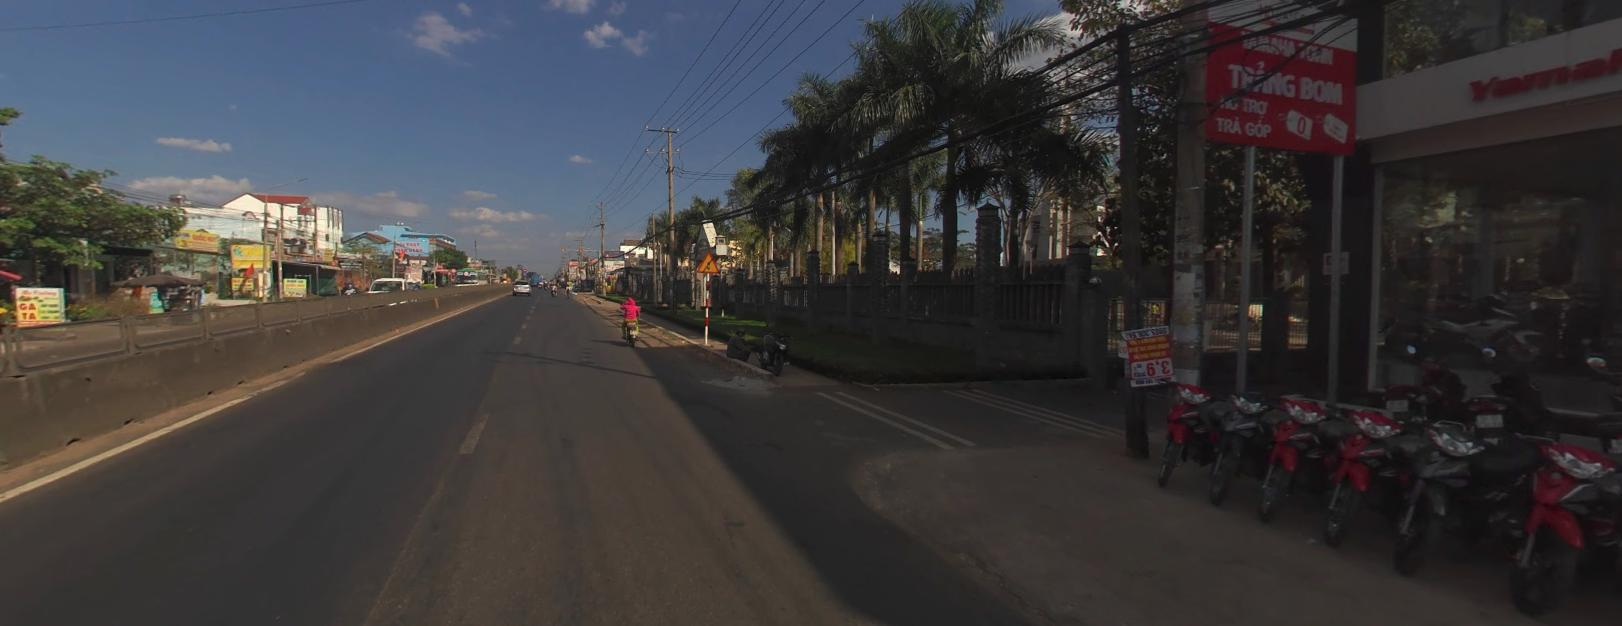Nguy hiem: (695, 249, 721, 273)
